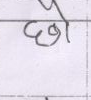au_matra: (54, 0, 76, 40)
